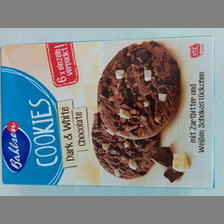chocolate: (1, 38, 214, 187)
